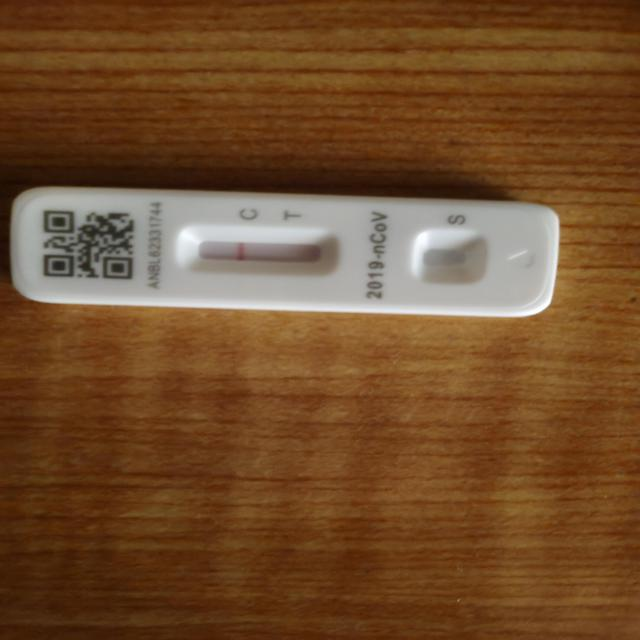qr_code: (44, 210, 135, 279)
